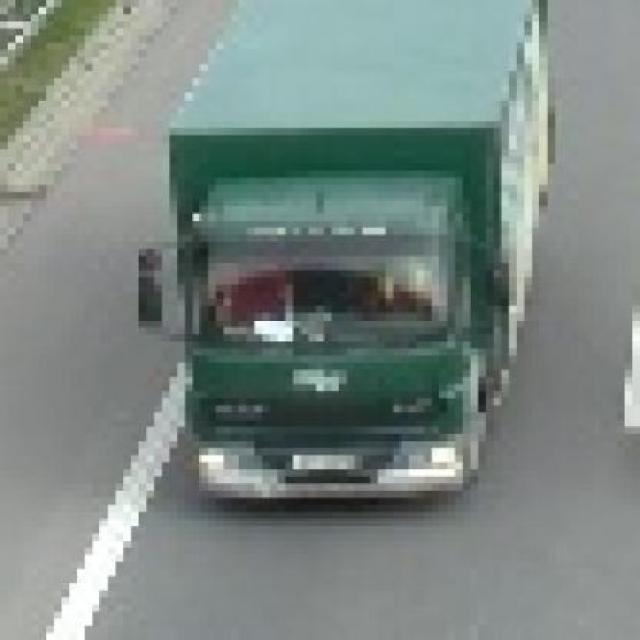truck: (147, 1, 564, 499)
